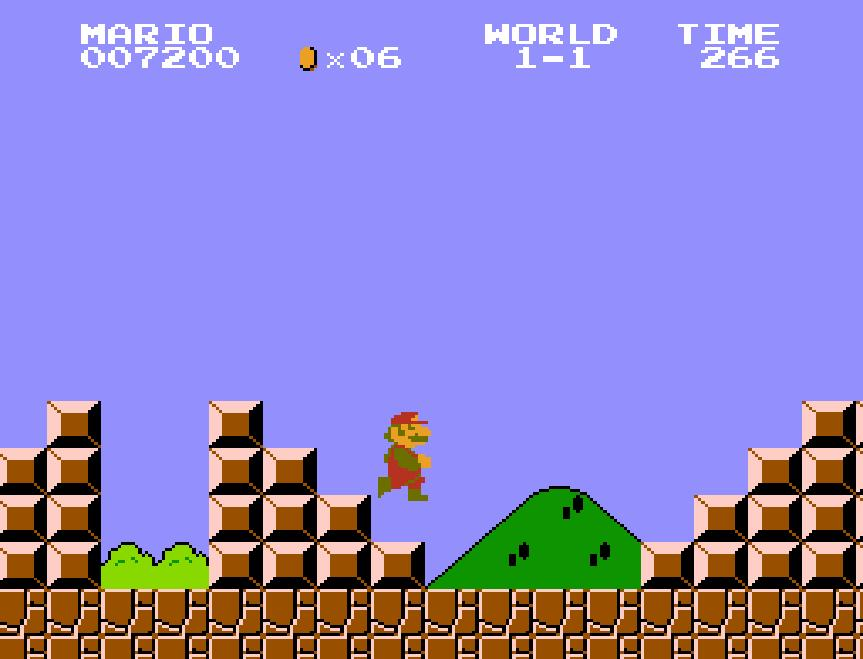big_mario: (376, 404, 434, 502)
